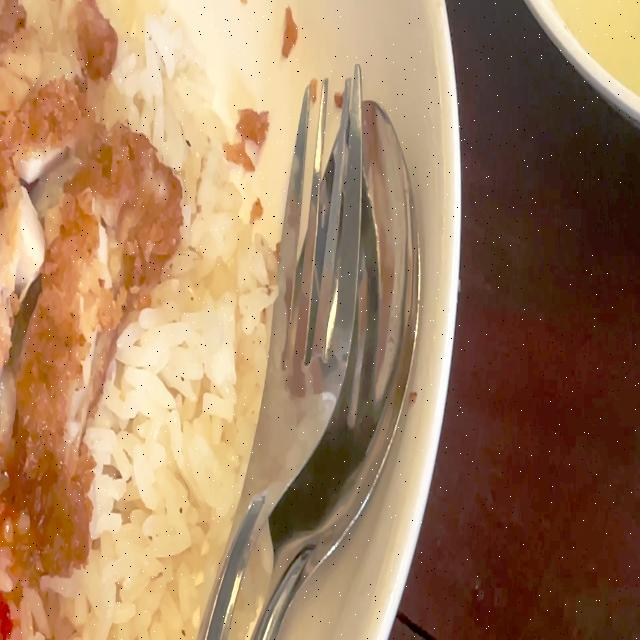chicken_rice: (0, 0, 280, 640)
fried_chicken: (0, 0, 186, 567)
